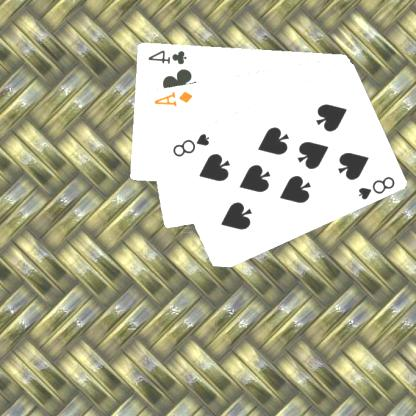4C: (146, 46, 190, 66)
8S: (171, 130, 213, 159), (357, 174, 398, 202)
AD: (153, 88, 195, 108)
